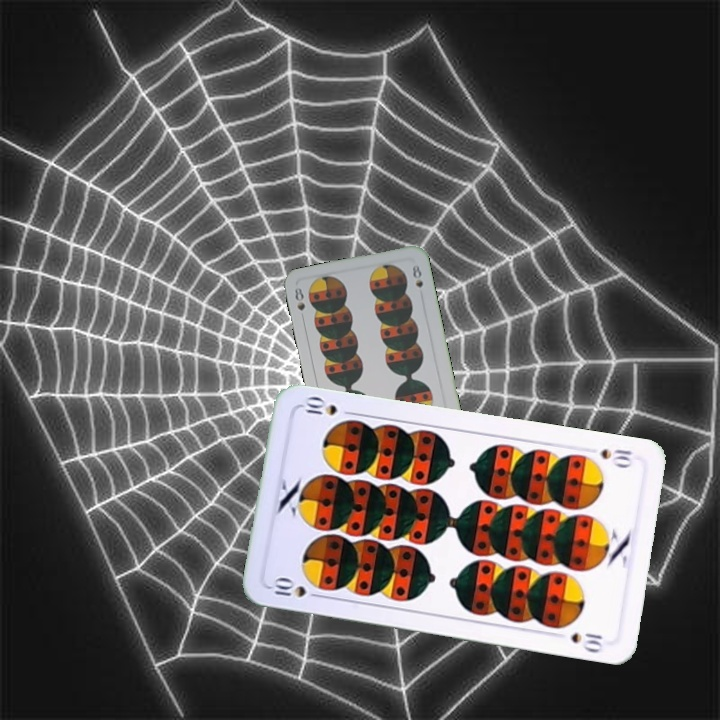S10: (266, 575, 325, 601), (596, 444, 635, 470)
S8: (291, 283, 308, 323)
